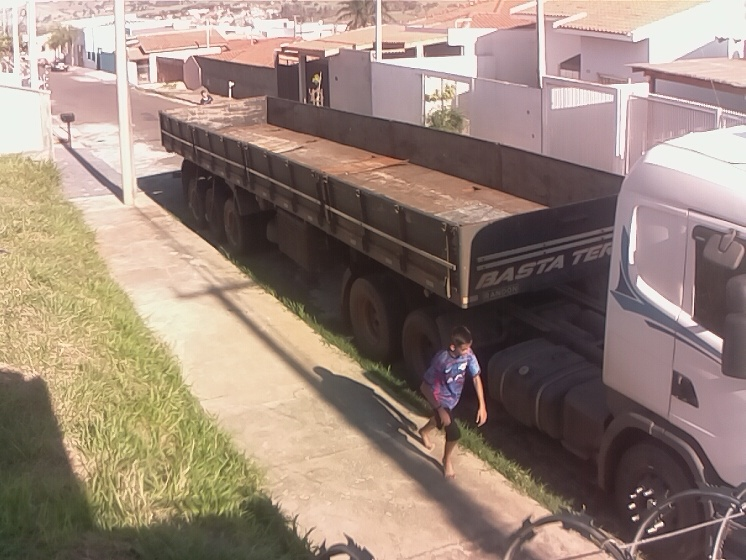person: (415, 322, 491, 489), (193, 89, 215, 106)
